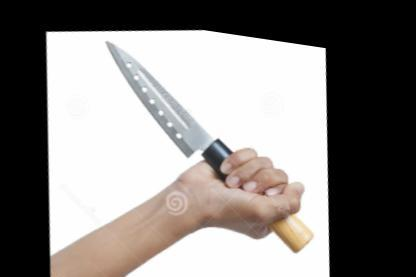knife: (86, 13, 300, 218)
